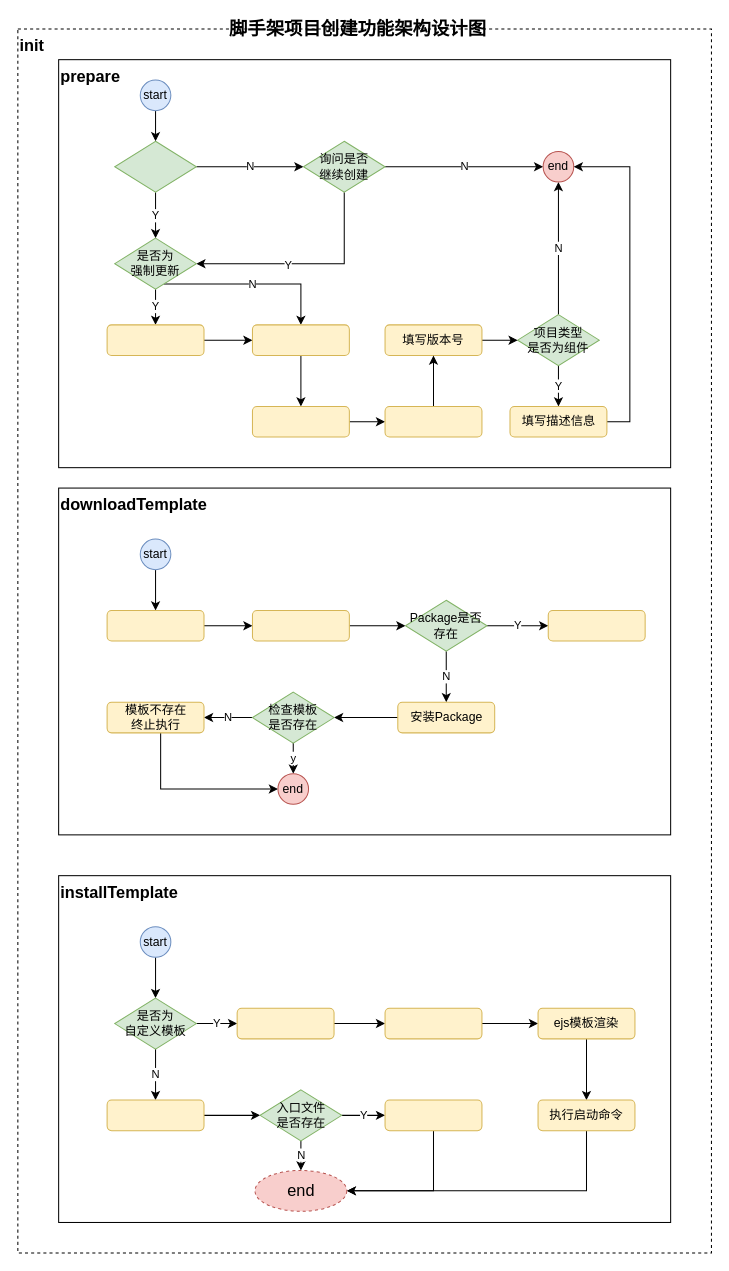
The diagram is 729 pixels wide and 1271 high, and some of its shapes have lost their labels. The shapes that lost their labels are listed below. From the top down, each one's centre as x and y in pixels, then its label:
At (155,166): "当前目录 是否为空".
At (155,339): "清空当前目录".
At (300,339): "获取项目类型 (项目/组件)".
At (300,421): "填写项目名称".
At (433,421): "项目名称 format".
At (155,625): "选择项目/组件 代码模板".
At (300,625): "生成 Package对象".
At (596,625): "更新Package".
At (285,1023): "拷贝模板代码 至当前目录".
At (433,1023): "生成ejs渲染忽略 文件目录".
At (155,1115): "查询自定义 模板入口文件".
At (433,1115): "执行入口文件".
